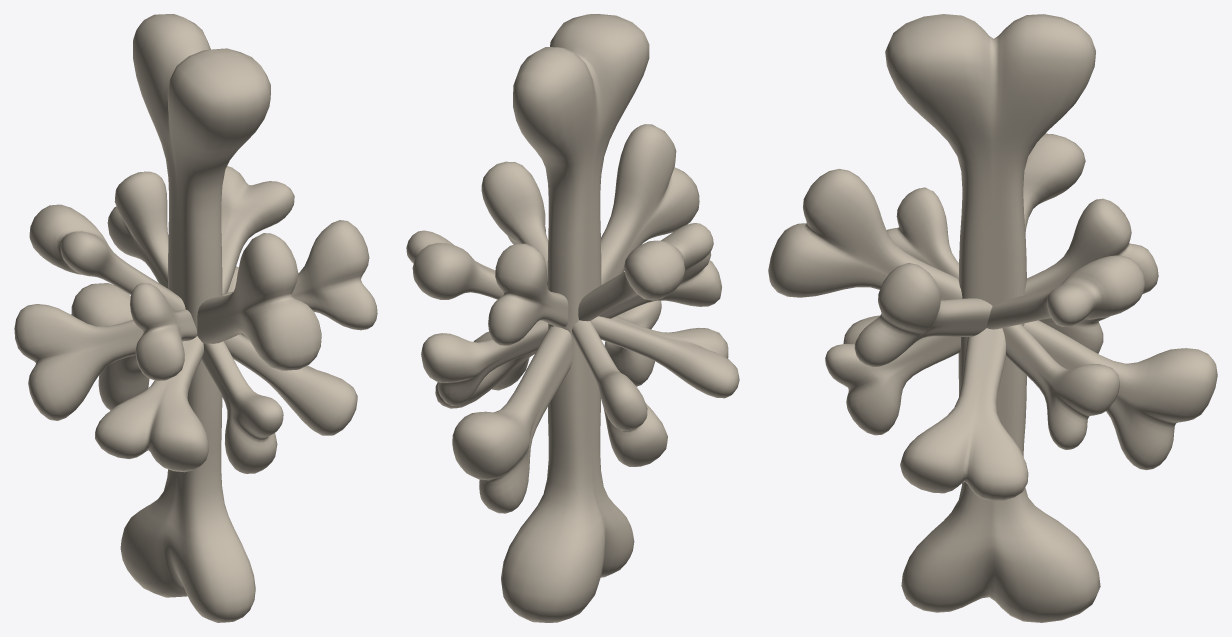
File: bonemation air.fbx
3 renders of one model, left to right at view 1: azimuth 30°, elevation 25°; view 2: azimuth 150°, elevation 25°; view 3: azimuth 270°, elevation 25°, orthographic. The views are drawn at different scales.
Parts seen in each view (by area): view 1: bone7; view 2: bone7; view 3: bone7.
Part boxes in pixels (box(x1,y1,x2,y2)): bone7: box(14, 14, 377, 622); bone7: box(406, 14, 739, 622); bone7: box(768, 14, 1217, 622).
Size of the model in its own units: 1.65 by 3.38 by 2.3.
